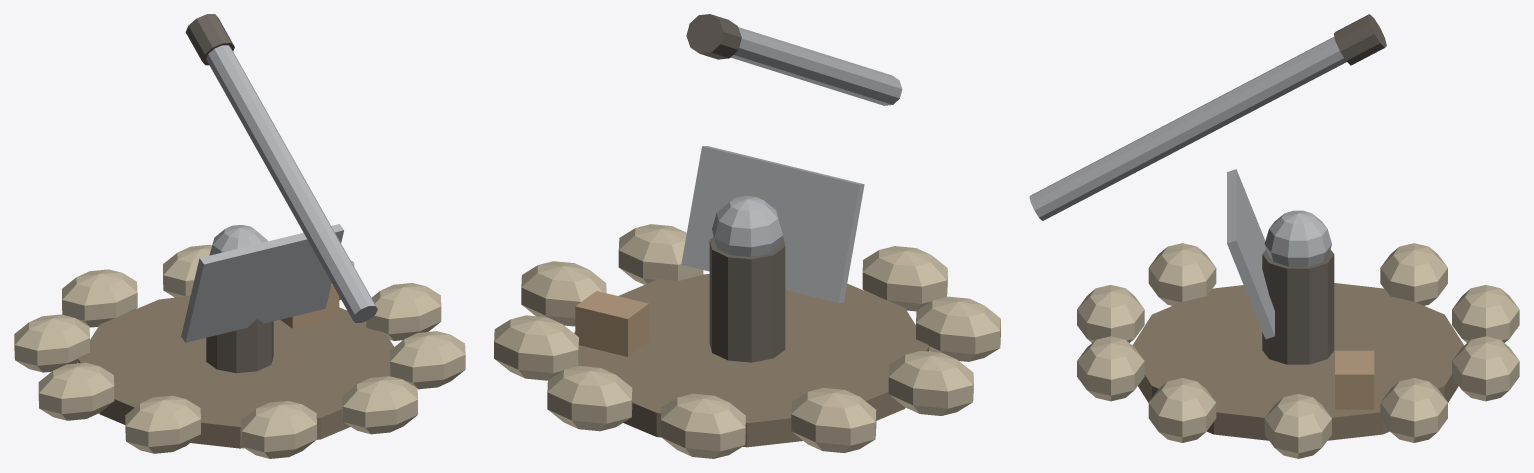
Rendered from enemy-aagun.glb.
3 views of the same model, side by side, from view 1: azimuth 30°, elevation 25°; view 2: azimuth 150°, elevation 25°; view 3: azimuth 270°, elevation 25° (orthographic). The views are drawn at different scales.
Visible parts, largest first — view 1: enemy-aagun; view 2: enemy-aagun; view 3: enemy-aagun.
Boxes of the visible parts, x1,y1,x2,y2 form: enemy-aagun: (14,14,465,458); enemy-aagun: (494,14,1000,458); enemy-aagun: (1029,14,1519,458).
Bounding box in the file's own units: 4.3 × 3.49 × 4.35.
